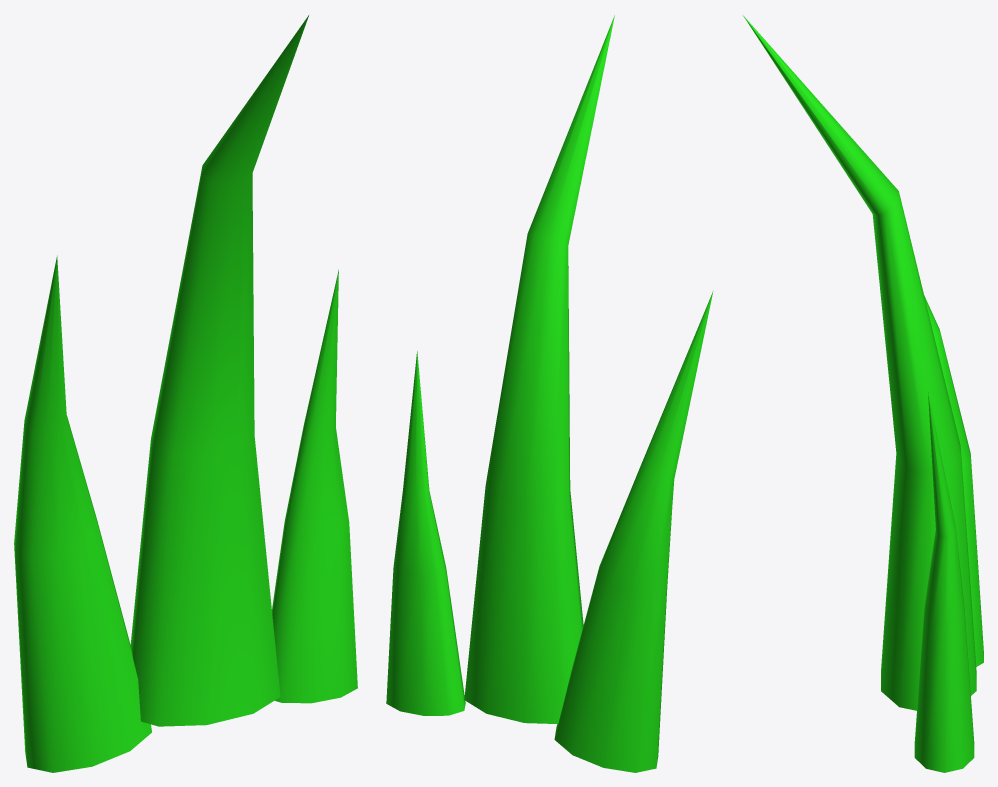
Rendered from Hierba1.FBX.
The picture shows the model from 3 angles, left to right: view 1: azimuth 30°, elevation 25°; view 2: azimuth 150°, elevation 25°; view 3: azimuth 270°, elevation 25°; orthographic projection. The views are drawn at different scales.
Visible parts, largest first — view 1: Cone001, Cone002, Cone003; view 2: Cone001, Cone002, Cone003; view 3: Cone001, Cone003, Cone002.
Boxes of the visible parts, x1,y1,x2,y2 form: Cone001: (130, 15, 308, 726); Cone002: (14, 255, 151, 772); Cone003: (272, 269, 357, 703); Cone001: (464, 15, 614, 723); Cone002: (554, 291, 713, 772); Cone003: (386, 351, 465, 715); Cone001: (743, 15, 976, 710); Cone003: (914, 392, 974, 772); Cone002: (924, 295, 983, 666).
Size of the model in its own units: 0.0464 by 0.1014 by 0.0319.
